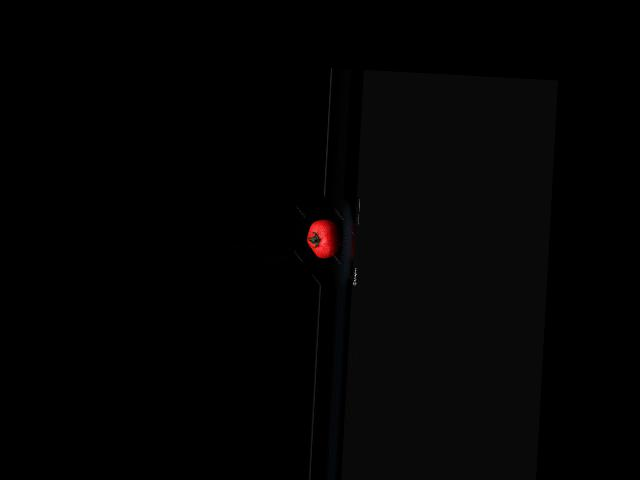tomato: (305, 218, 342, 259)
